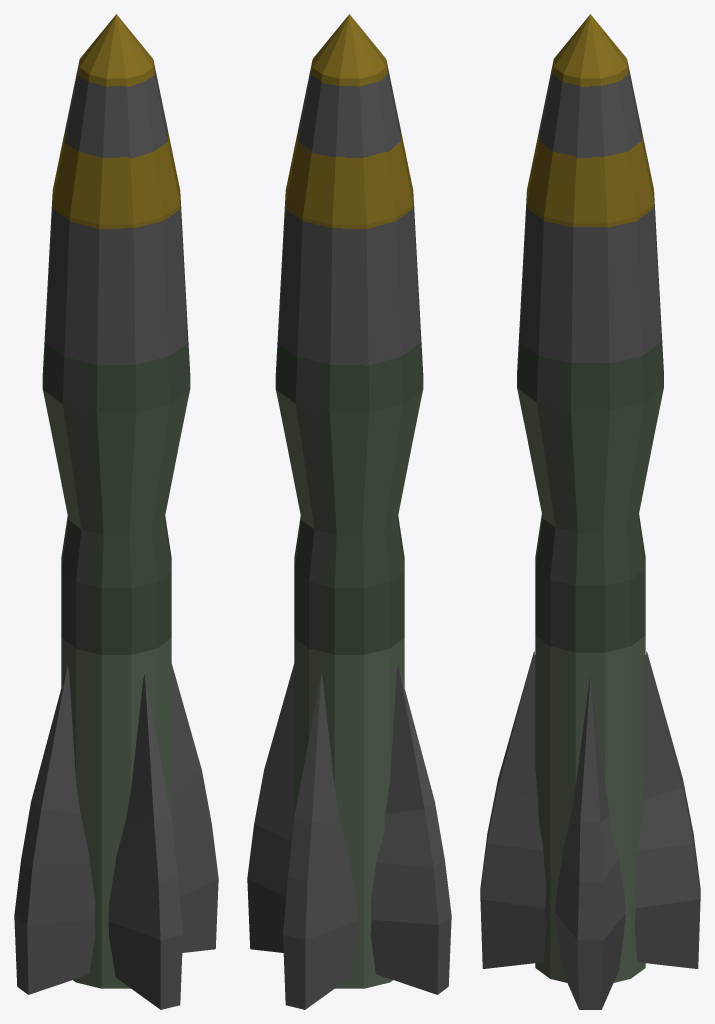
File: missile_light.obj
3 renders of one model, left to right at view 1: azimuth 30°, elevation 25°; view 2: azimuth 150°, elevation 25°; view 3: azimuth 270°, elevation 25°, orthographic.
Visible parts, largest first — view 1: cylinder; view 2: cylinder; view 3: cylinder.
Boxes of the visible parts, x1,y1,x2,y2 form: cylinder: [14, 14, 218, 1009]; cylinder: [247, 14, 451, 1009]; cylinder: [480, 14, 700, 1009].
Size of the model in its own units: 0.1875 by 0.8931 by 0.1875.
